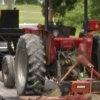Tractor: (18, 17, 100, 100)
